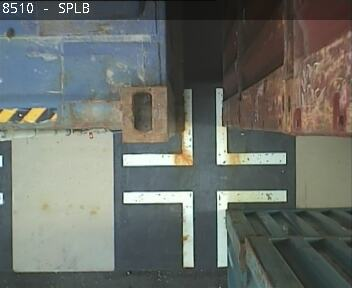groundmarker_1: (122, 89, 285, 167), (123, 190, 286, 268)
